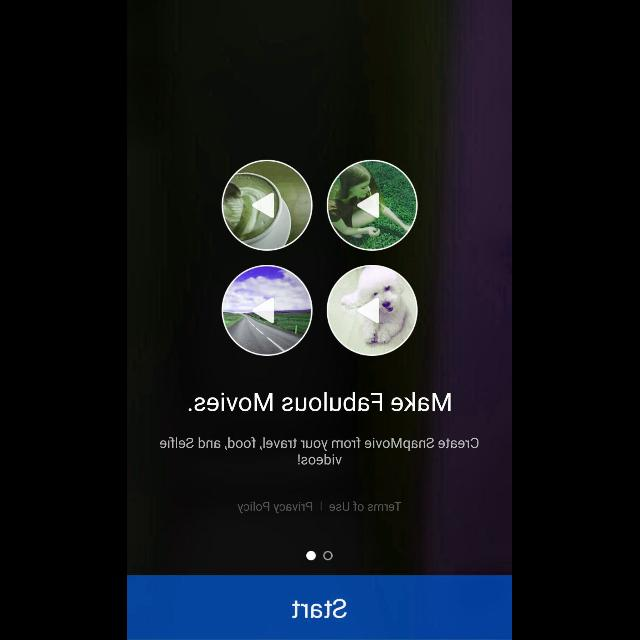image: (222, 159, 314, 251), (222, 266, 314, 356), (328, 160, 418, 252), (328, 266, 418, 356)
pageindicator: (306, 550, 334, 562)
text: (161, 436, 479, 466), (189, 392, 451, 412), (238, 501, 314, 514), (329, 501, 403, 513)
textbutton: (128, 576, 512, 640)
